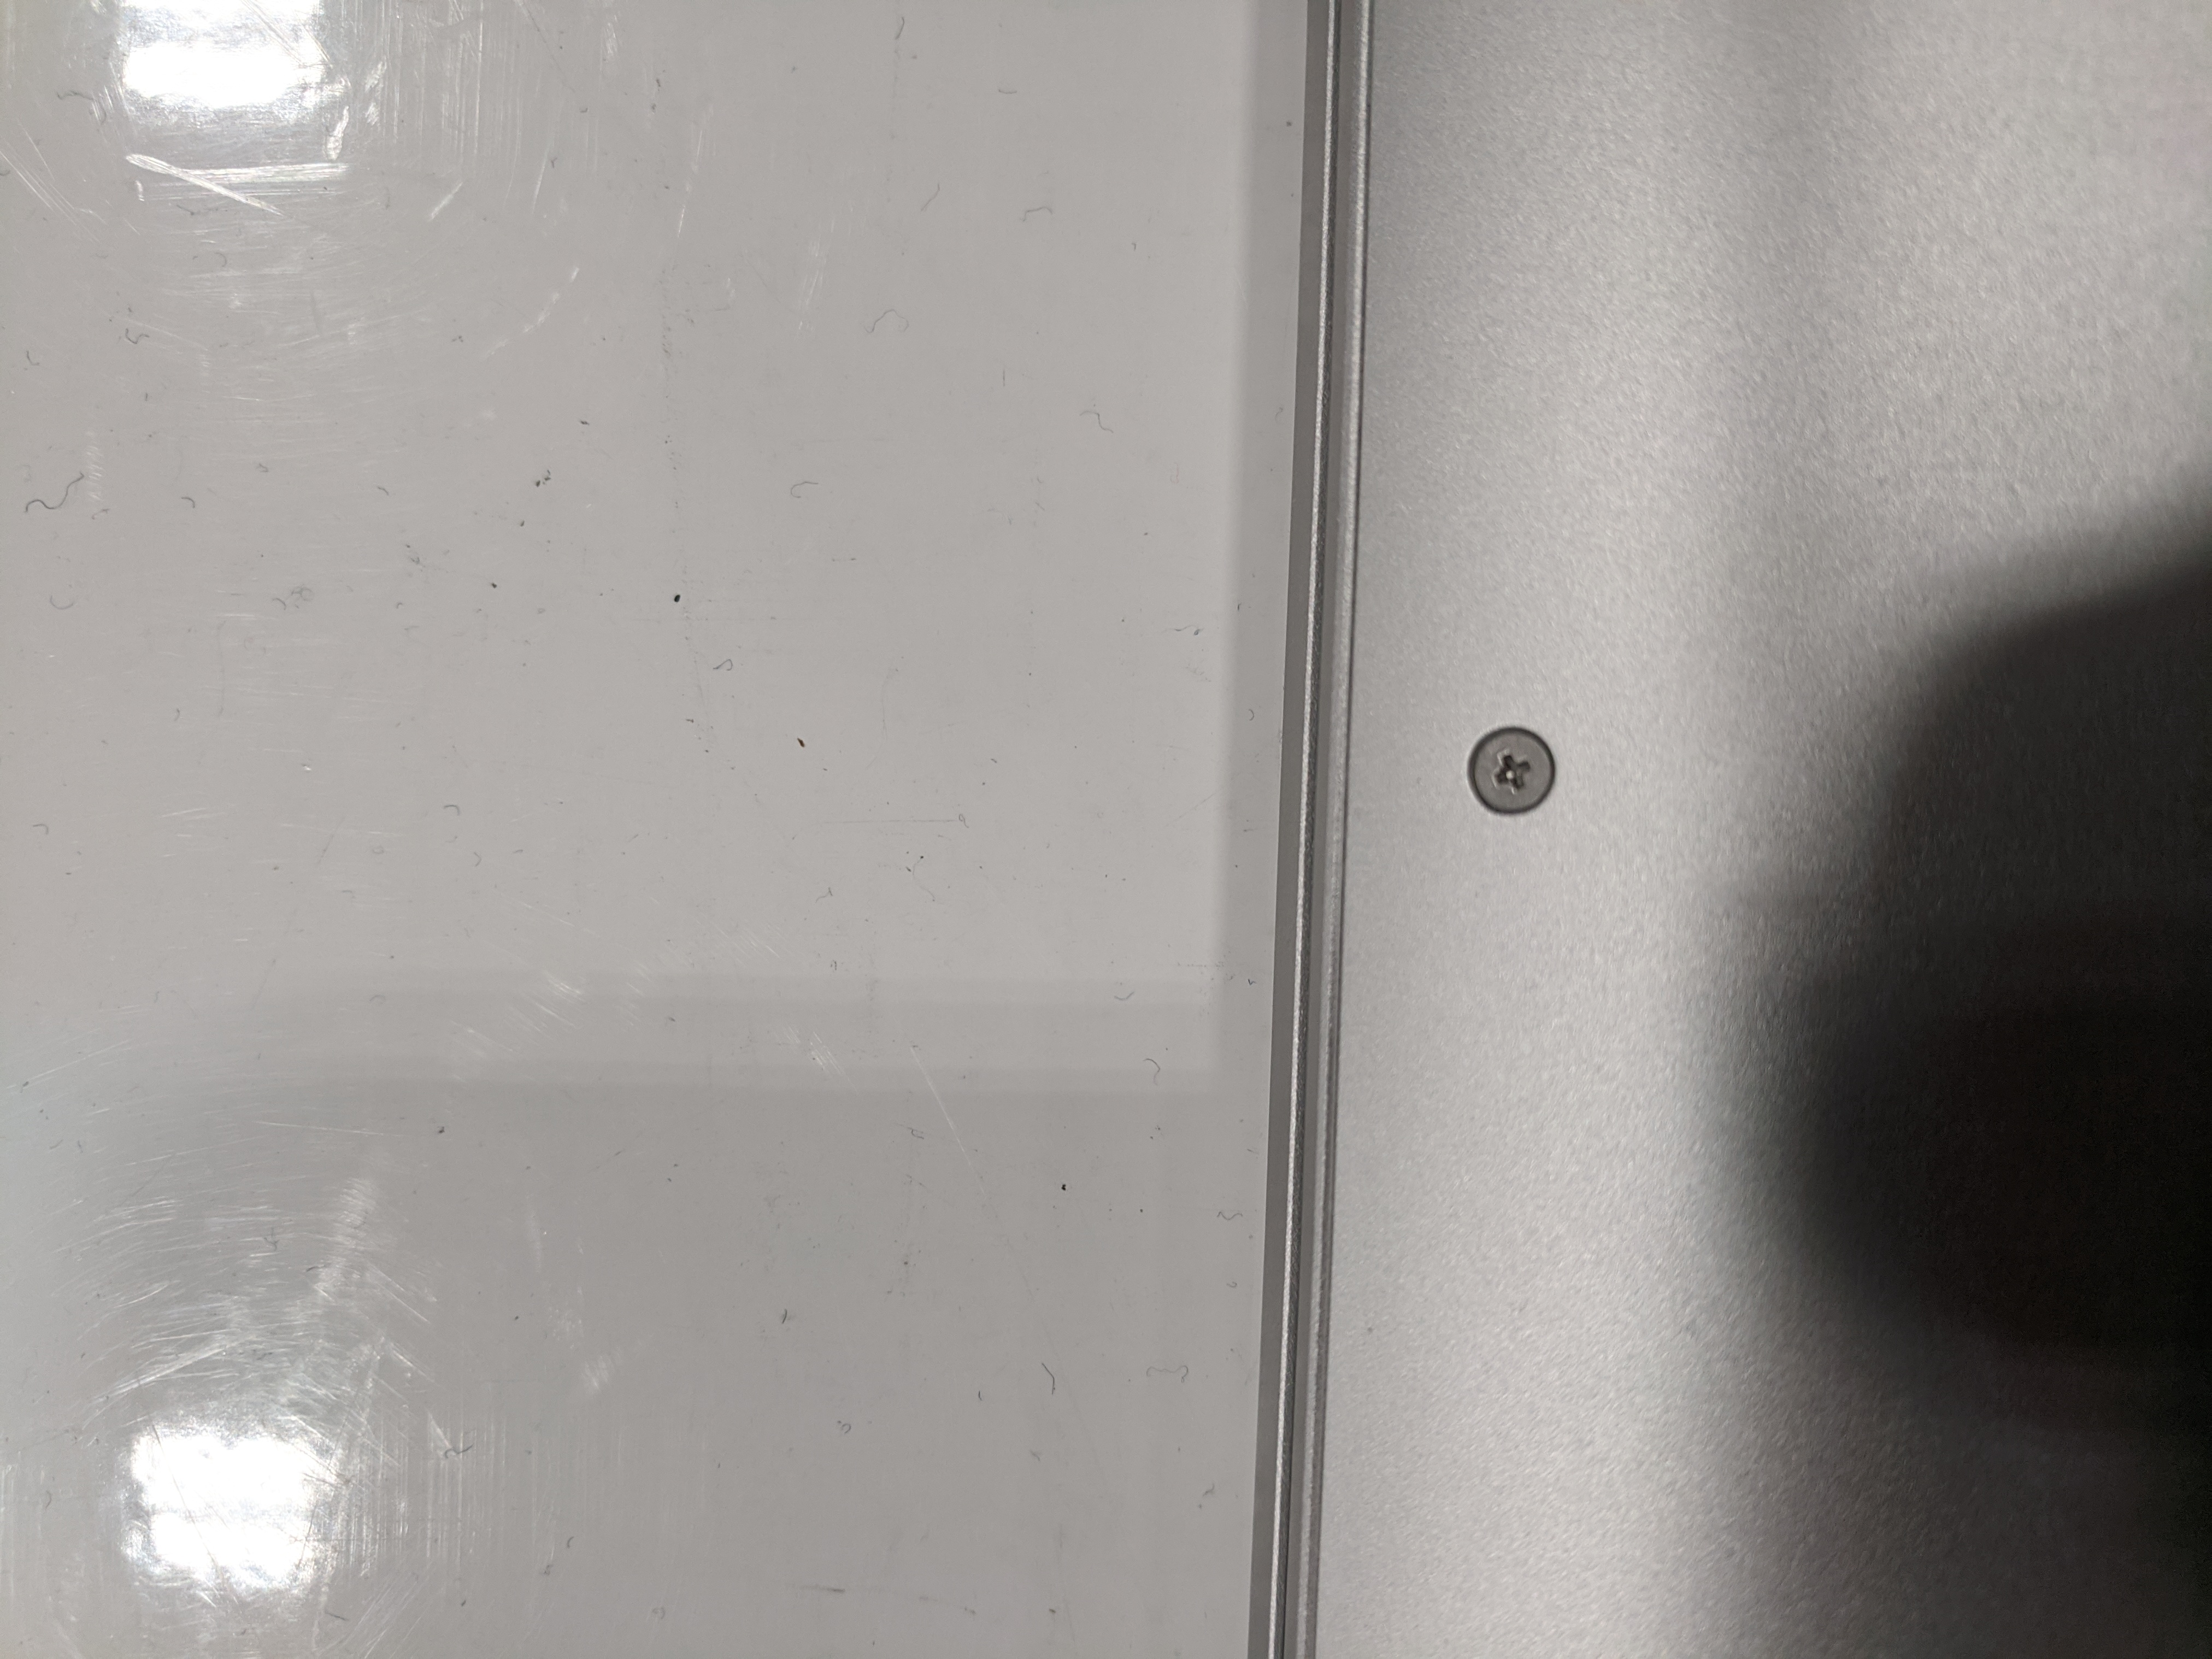cross_recessed_screw: (1460, 713, 1568, 816)
